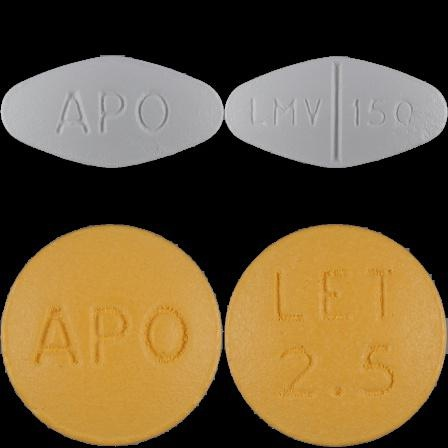60505-3251: (0, 0, 224, 224)
